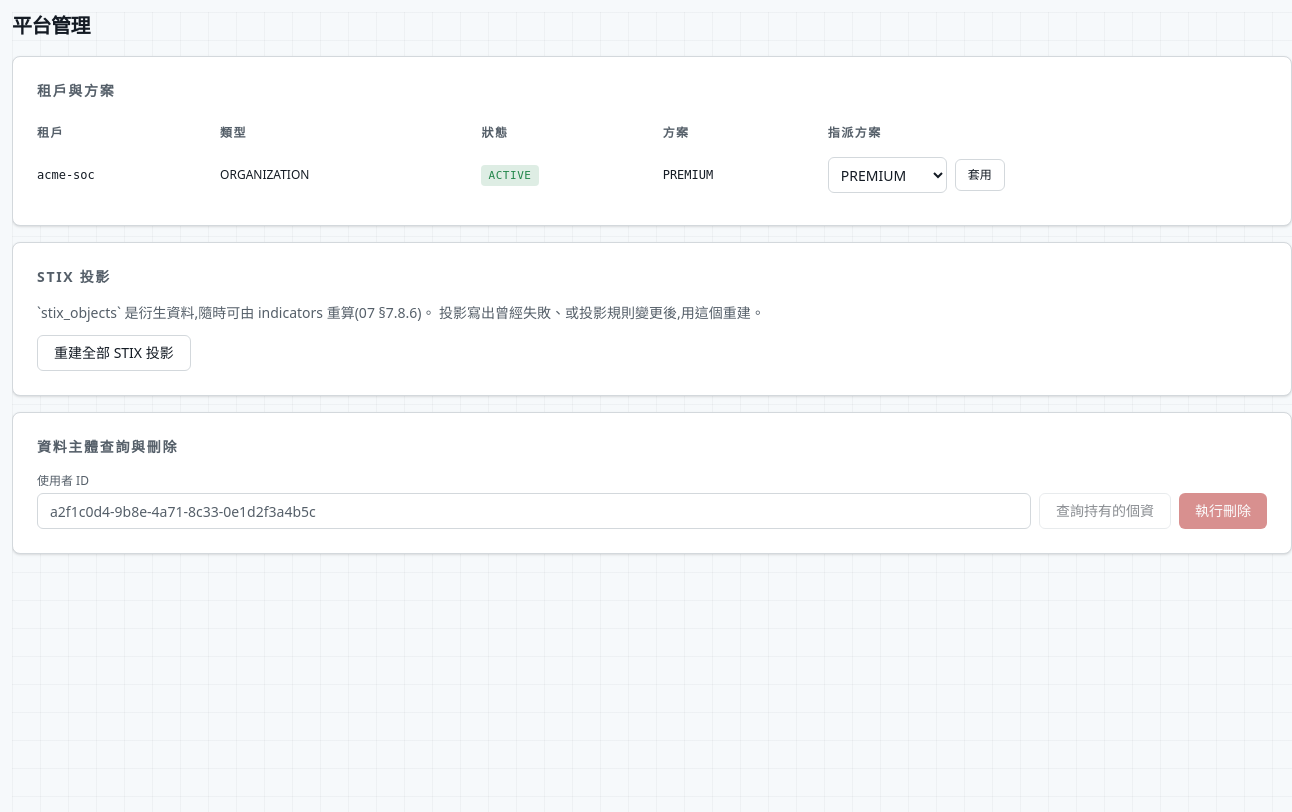
Test case: AdminPage › rebuilds the STIX projections and reports how many were rebuilt
Click the button "重建全部 STIX 投影": coordinates (114, 353) [37,335,191,371]
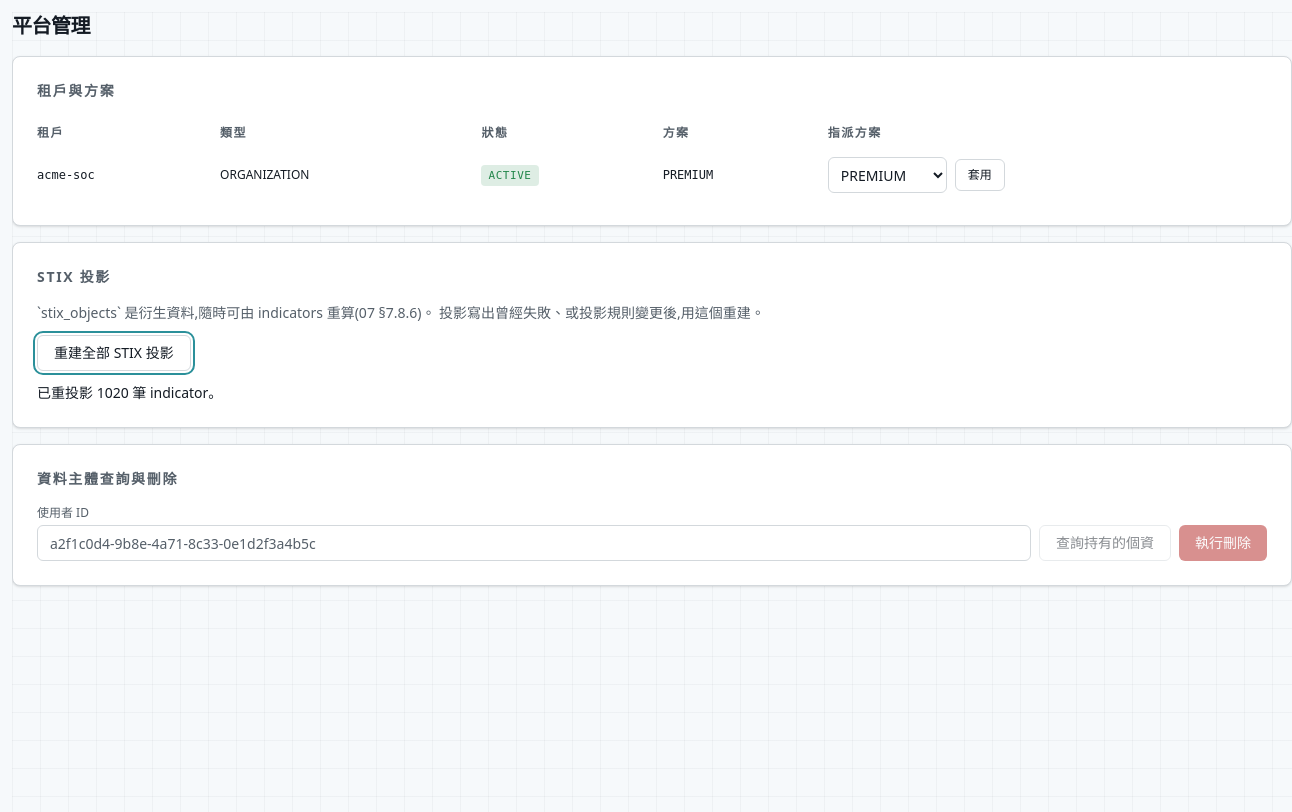
Result: the text with test id "stix-rebuild-result" shows "1020" at [97,383,129,402]
